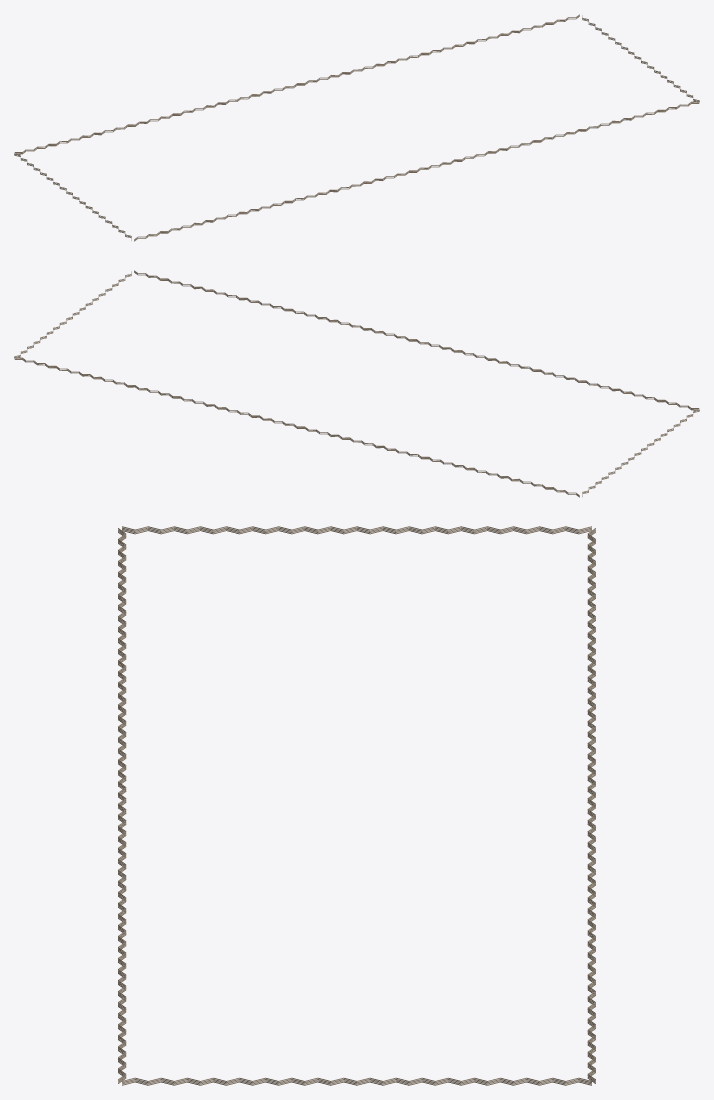
Rendered from forks_company_cornfield_1812__cornfield_1808.glb.
3 renders of one model, top to bottom at view 1: azimuth 30°, elevation 25°; view 2: azimuth 150°, elevation 25°; view 3: azimuth 270°, elevation 25°, orthographic. The views are drawn at different scales.
Parts seen in each view (by area): view 1: forks_company_cornfield_1812__cornfield_1808; view 2: forks_company_cornfield_1812__cornfield_1808; view 3: forks_company_cornfield_1812__cornfield_1808.
Boxes of the visible parts, x1,y1,x2,y2 form: forks_company_cornfield_1812__cornfield_1808: (14, 14, 699, 241); forks_company_cornfield_1812__cornfield_1808: (14, 270, 699, 497); forks_company_cornfield_1812__cornfield_1808: (118, 526, 595, 1085).
Bounding box in the file's own units: 302 × 1.18 × 110.
